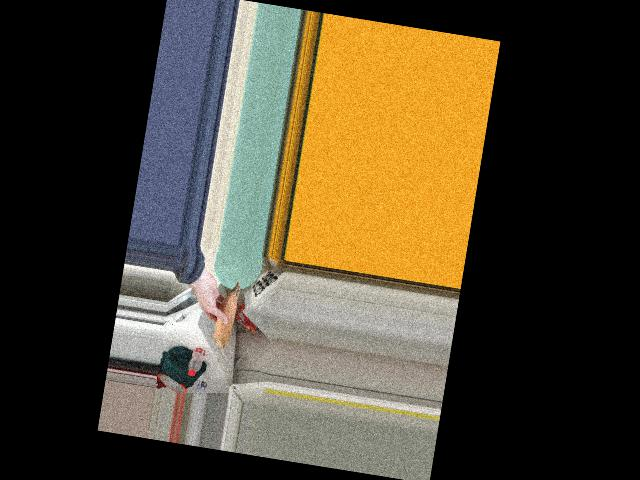sweet_potato: (207, 277, 242, 352)
